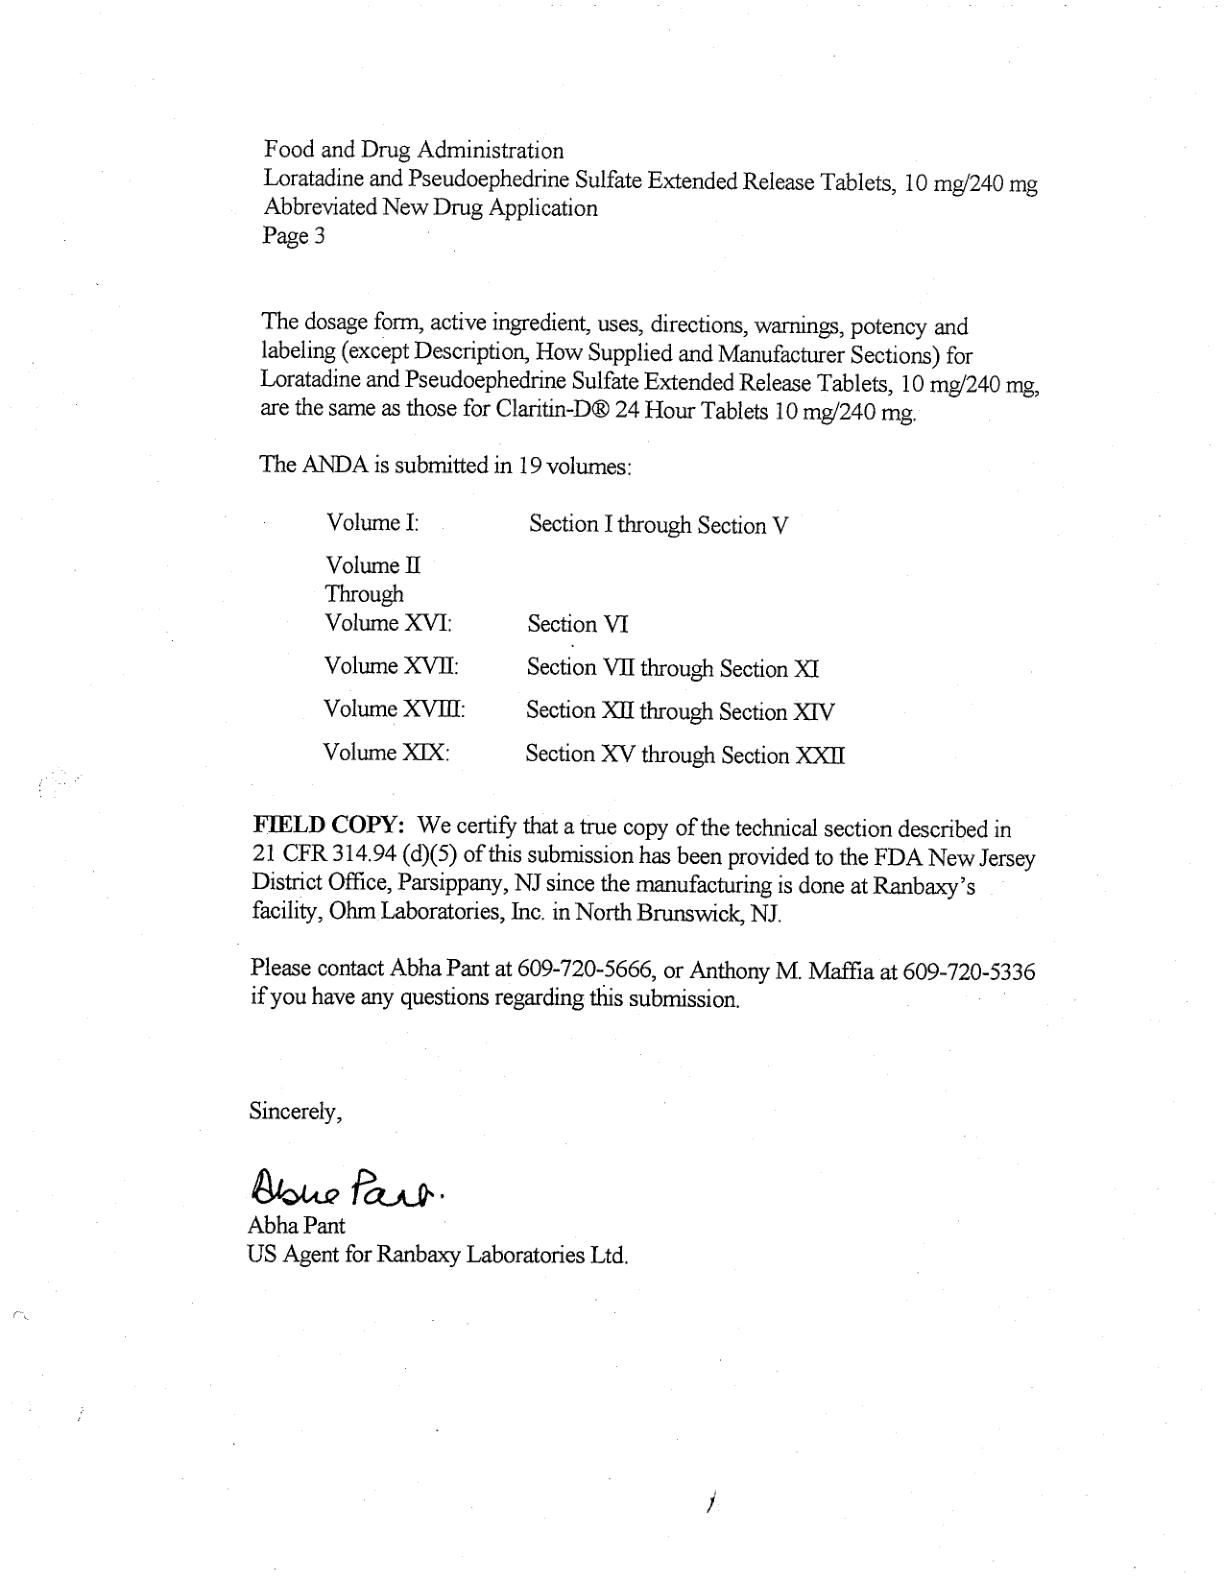nolines: (319, 507, 846, 772)
